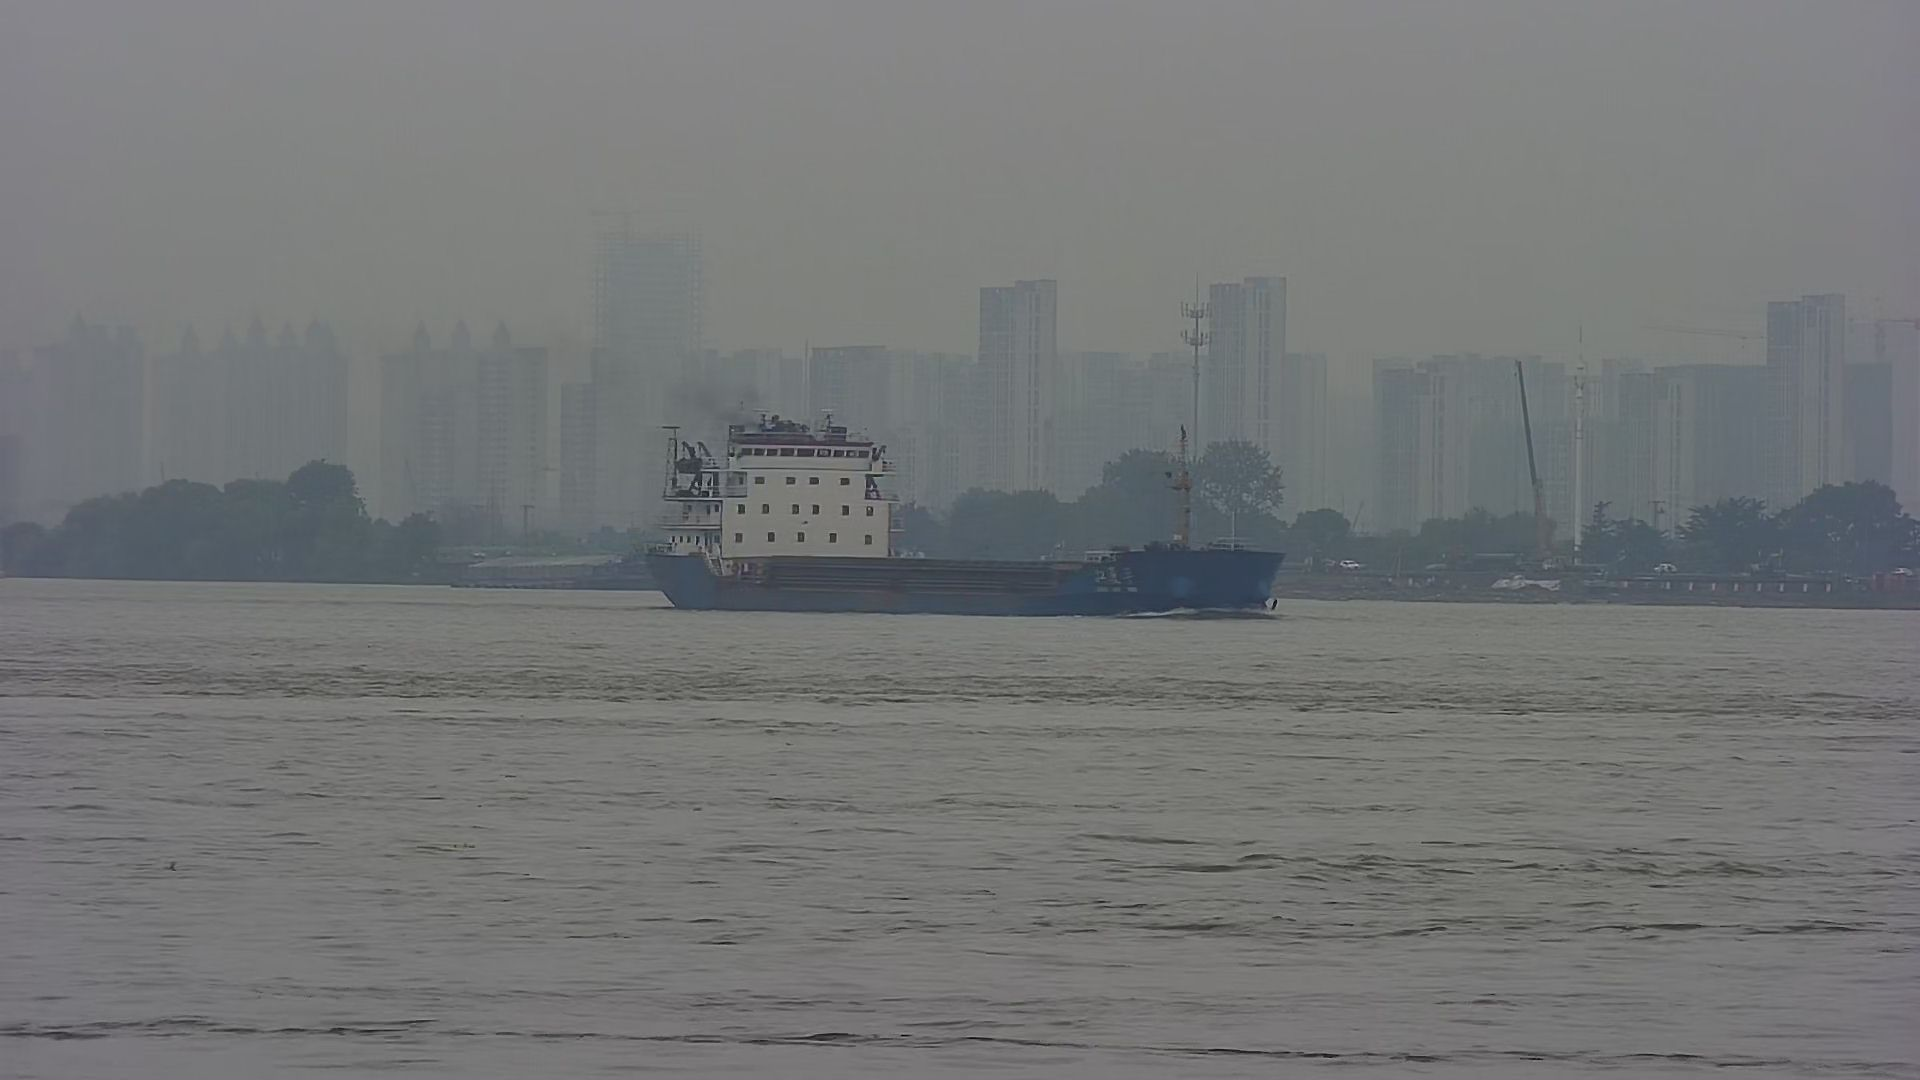ship: (618, 397, 1308, 626)
